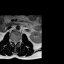CCS_normal: (14, 38, 16, 46)
LFS_normal: (17, 38, 19, 43)
LLS_normal: (16, 38, 17, 44)
RFS_stenosis: (11, 38, 13, 43)
RLS_normal: (13, 38, 14, 44)
